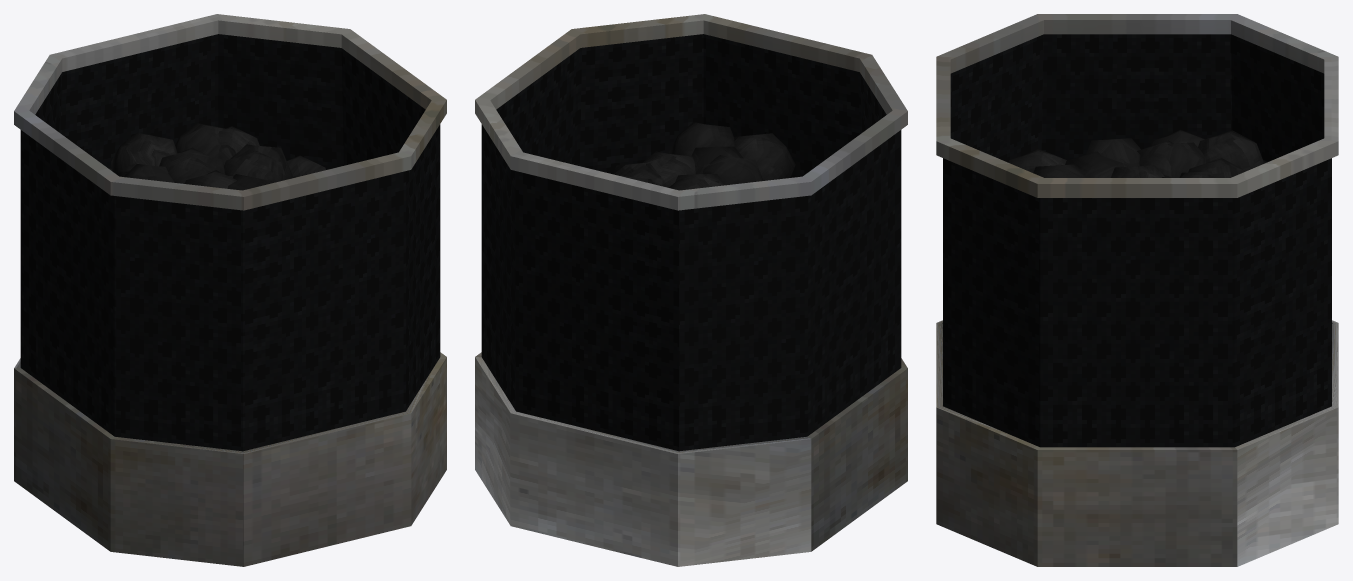
File: CoalBasketFull.fbx
The picture shows the model from 3 angles, left to right: view 1: azimuth 30°, elevation 25°; view 2: azimuth 150°, elevation 25°; view 3: azimuth 270°, elevation 25°; orthographic projection. The views are drawn at different scales.
Parts seen in each view (by area): view 1: Basket, pCube2 (×2), pCube3 (×2), pCube10, pCube8, pCube7, pCube1; view 2: Basket, pCube3, pCube6, pCube1, pCube2, pCube9, pCube7; view 3: Basket, pCube2 (×2), pCube10 (×2), pCube3 (×2), pCube1, pCube9, pCube6.
Boxes of the visible parts, x1,y1,x2,y2 form: Basket: [14, 14, 446, 566]; pCube2 (×2): [111, 132, 286, 182]; pCube3 (×2): [168, 126, 259, 183]; pCube10: [175, 123, 226, 158]; pCube8: [124, 164, 174, 182]; pCube7: [230, 144, 293, 179]; pCube1: [184, 170, 236, 188]; Basket: [475, 14, 907, 566]; pCube3: [734, 133, 795, 180]; pCube6: [669, 122, 734, 156]; pCube1: [702, 155, 763, 185]; pCube2: [643, 151, 695, 187]; pCube9: [691, 146, 743, 167]; pCube7: [613, 162, 662, 186]; Basket: [936, 14, 1338, 566]; pCube2 (×2): [1111, 130, 1264, 177]; pCube10 (×2): [1153, 142, 1245, 177]; pCube3 (×2): [1008, 140, 1173, 177]; pCube1: [1086, 138, 1140, 163]; pCube9: [1065, 151, 1123, 177]; pCube6: [1033, 164, 1086, 177].
Bounding box in the file's own units: 1.76 × 1.85 × 1.76.
Materials: 3 (3 with a texture image).
